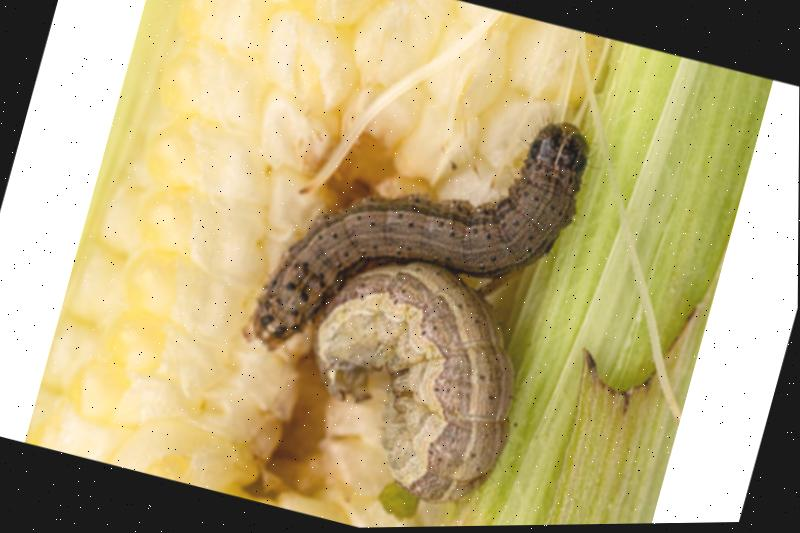fall-armyworm: (250, 123, 590, 346), (314, 264, 516, 506)
